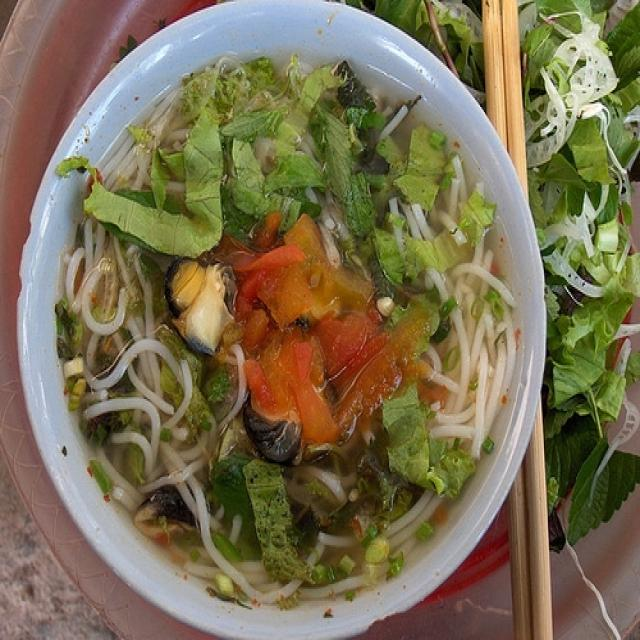面条主食: (19, 17, 556, 623)
